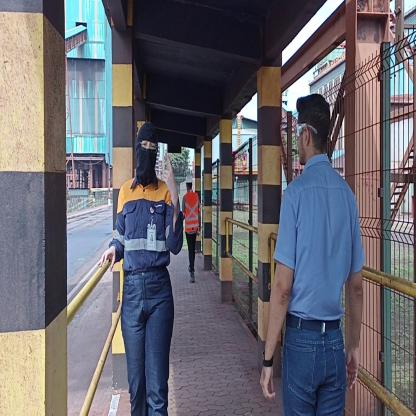Balaclava: (131, 117, 160, 191)
Capacete: (183, 171, 194, 185)
Operacional: (111, 181, 181, 264)
colete: (182, 189, 200, 235)
